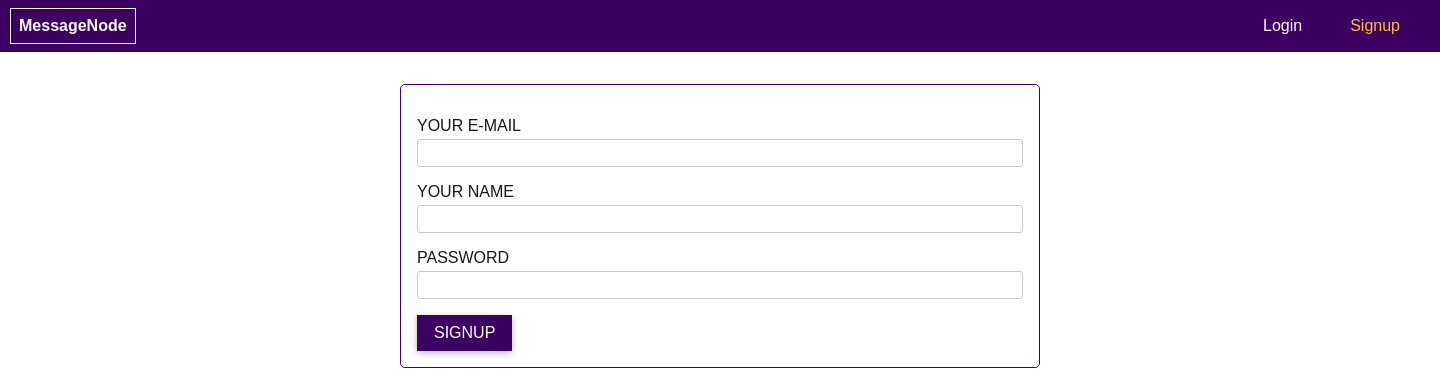
Test: Signup thành công chuyển sang Login với thông báo
This screenshot has width=1440, height=385.
Type "test@example.com" into the field labelled "YOUR E-MAIL".
click(720, 153); type("test@example.com")  # box [417,139,1023,167]
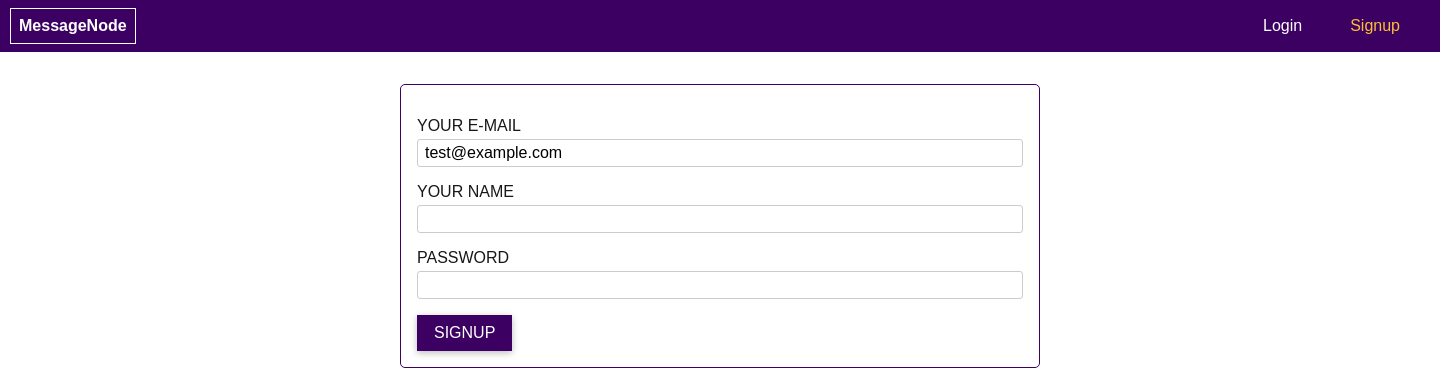
Type "Test User" into the field labelled "YOUR NAME".
click(720, 219); type("Test User")  # box [417,205,1023,233]
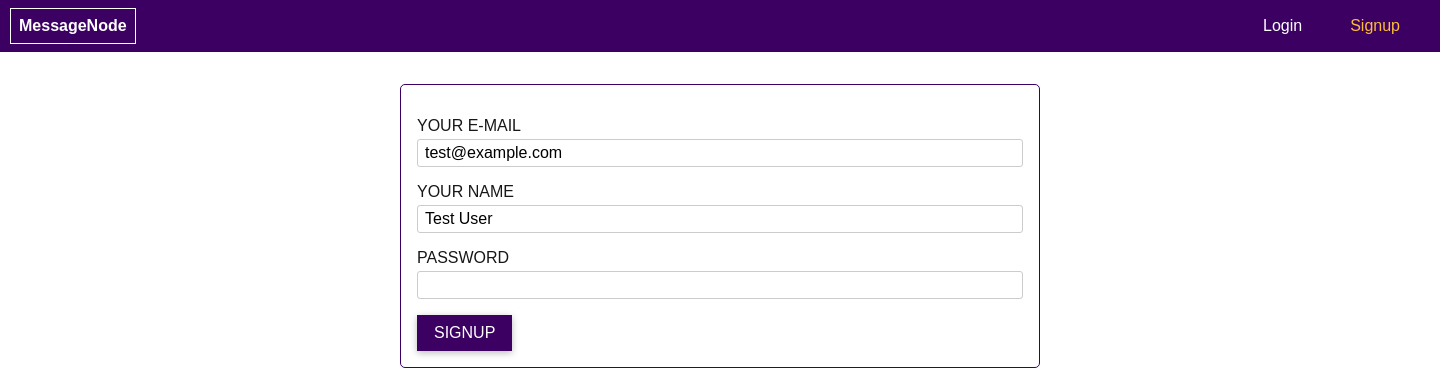
Type "password123" into the password field labelled "PASSWORD".
click(720, 285); type("password123")  # box [417,271,1023,299]
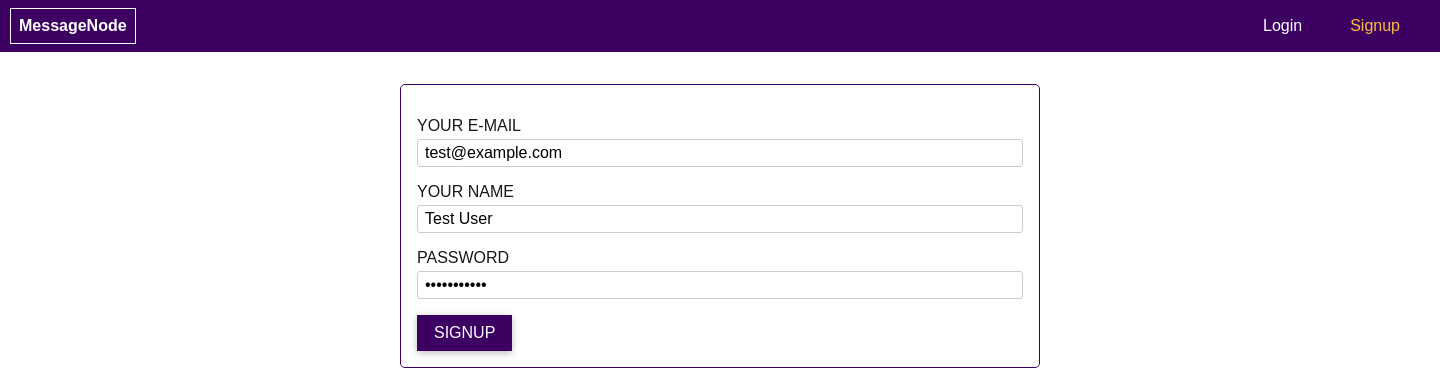
Click the button "SIGNUP".
click(465, 333)  # box [417,315,512,351]
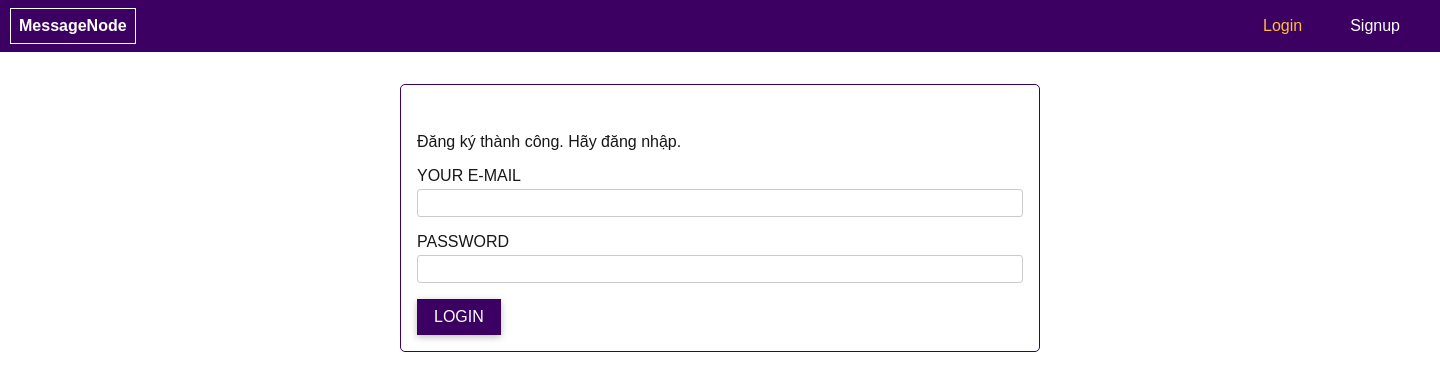
Result: the text "Đăng ký thành công. Hãy đăng nhập." is shown at [417,133,681,150]
